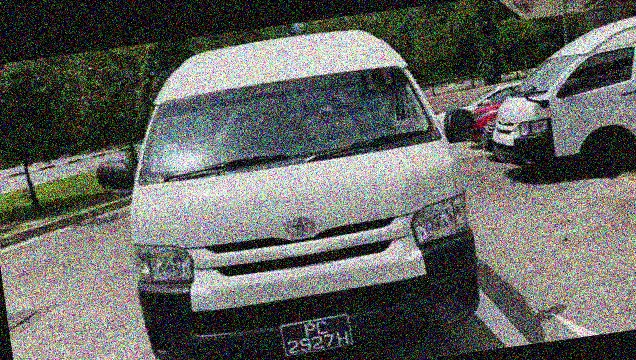van: (107, 14, 491, 360)
